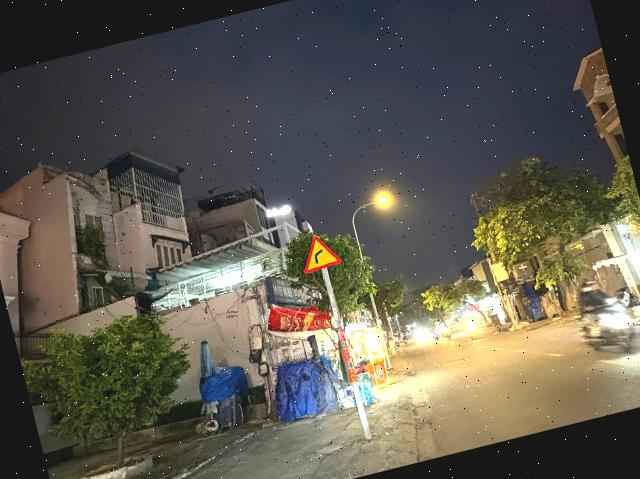cho-ngoat-nguy-hiem-ben-trai: (296, 229, 344, 275)
